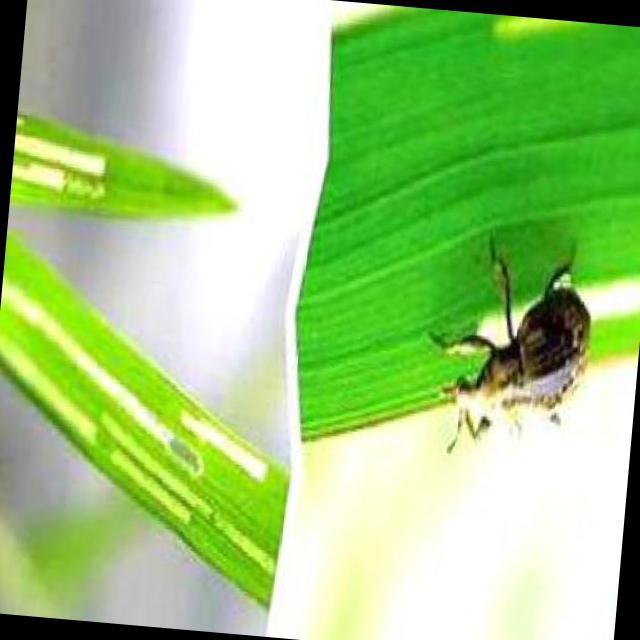rice-bug: (440, 244, 602, 445)
